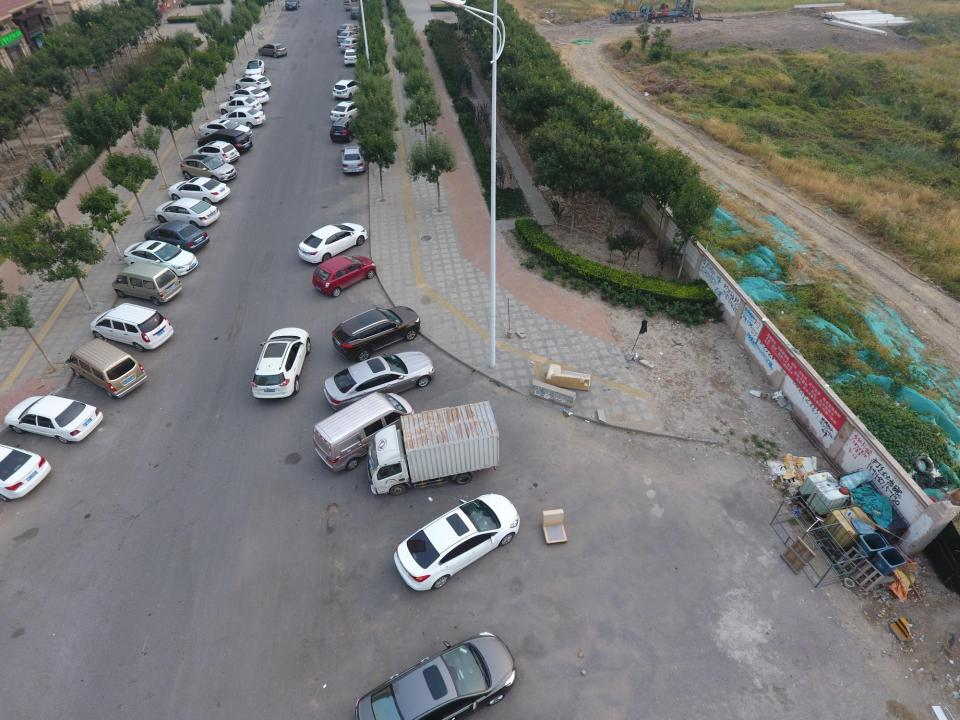car: (356, 631, 516, 720), (393, 493, 520, 591), (324, 351, 435, 411), (4, 396, 104, 443), (333, 306, 420, 360), (252, 327, 311, 398), (90, 303, 174, 351), (299, 222, 368, 264), (123, 240, 198, 276), (312, 255, 376, 297), (144, 220, 210, 252), (154, 197, 220, 227), (168, 176, 230, 204), (180, 154, 237, 182), (198, 128, 253, 154), (199, 118, 253, 140), (192, 141, 240, 164), (329, 118, 370, 142), (331, 100, 374, 122), (219, 108, 266, 128), (218, 97, 262, 115), (333, 79, 372, 99), (228, 86, 269, 104), (340, 146, 366, 173), (235, 74, 272, 91), (258, 42, 288, 58), (243, 59, 266, 79), (339, 37, 366, 52), (337, 30, 364, 44), (337, 23, 363, 36), (344, 49, 359, 65), (284, 0, 299, 10), (350, 6, 360, 19)
truck: (367, 401, 500, 495)
van: (313, 392, 416, 472), (65, 338, 148, 398), (110, 262, 183, 305), (343, 1, 367, 11)
